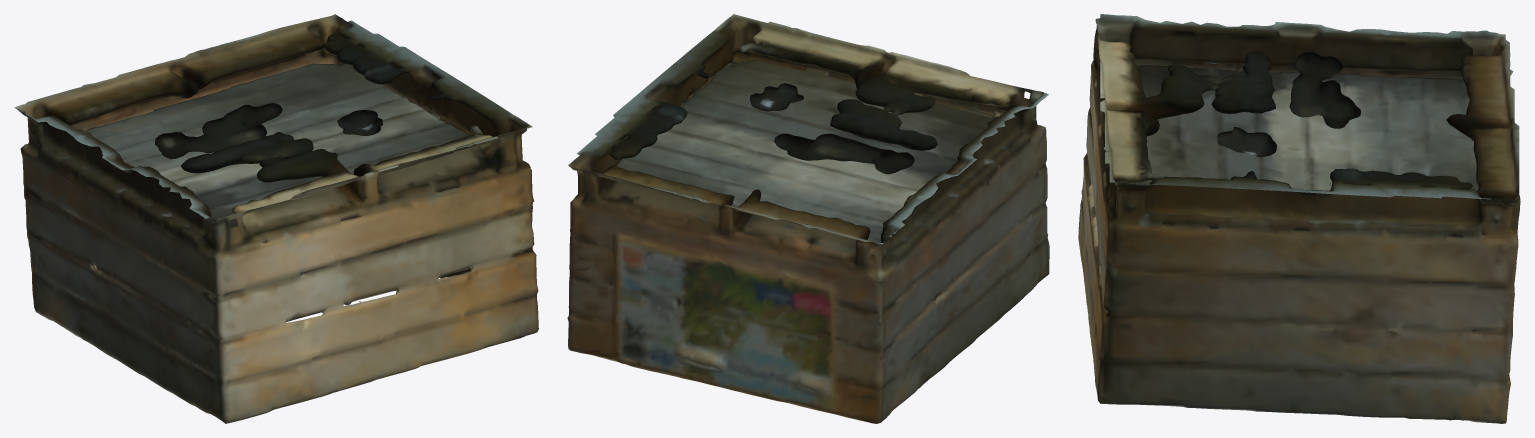
File: pallox.obj
3 renders of one model, left to right at view 1: azimuth 30°, elevation 25°; view 2: azimuth 150°, elevation 25°; view 3: azimuth 270°, elevation 25°, orthographic. The views are drawn at different scales.
Size of the model in its own units: 1.28 by 0.8282 by 1.31.
